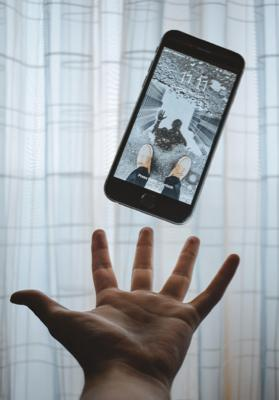Mobile Phone: (102, 28, 245, 225)
